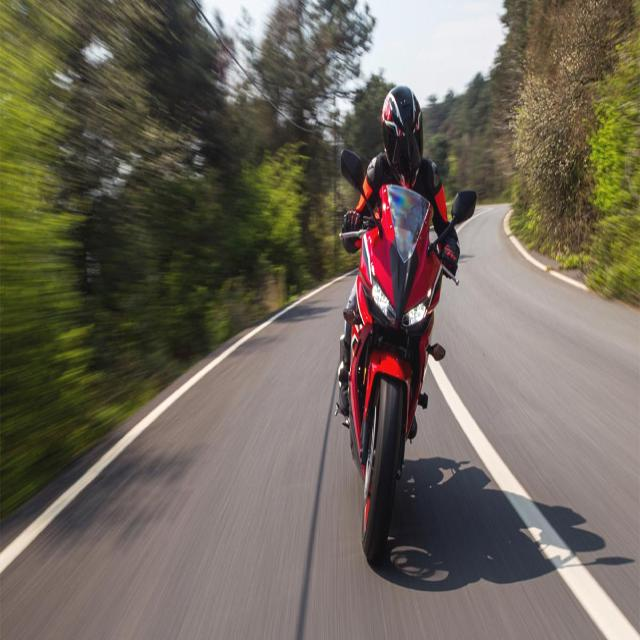MOTORCYCLE: (346, 178, 450, 581)
